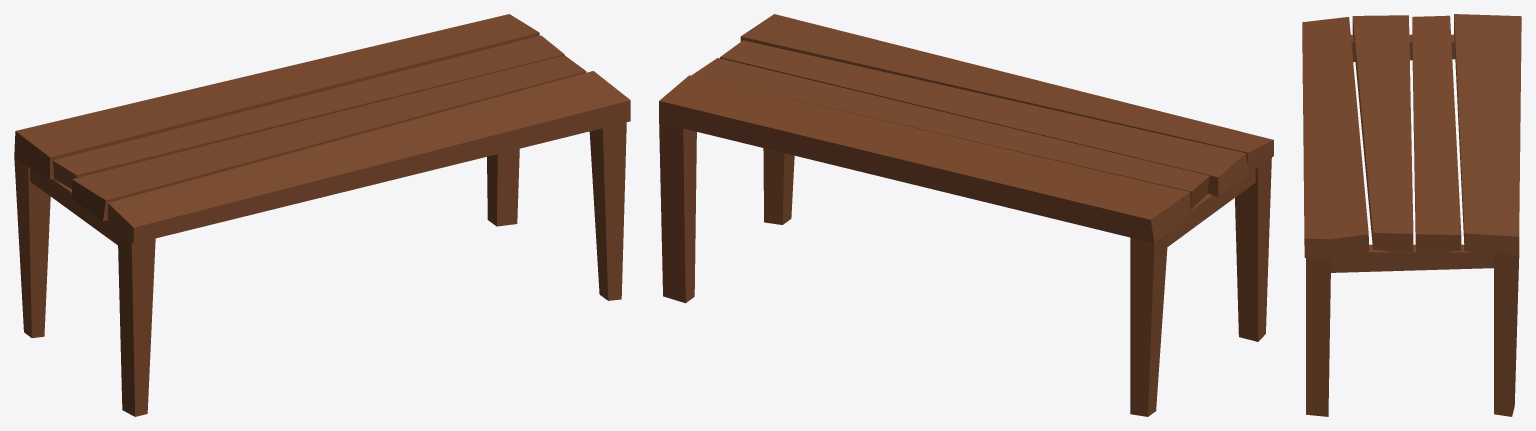
Rendered from tableplank03.obj.
3 views of the same model, side by side, from view 1: azimuth 30°, elevation 25°; view 2: azimuth 150°, elevation 25°; view 3: azimuth 270°, elevation 25° (orthographic). The views are drawn at different scales.
Parts seen in each view (by area): view 1: Cube_Cube.001; view 2: Cube_Cube.001; view 3: Cube_Cube.001.
Part boxes in pixels (left/top/right/bottom): Cube_Cube.001: left=14, top=14, right=630, bottom=416; Cube_Cube.001: left=659, top=14, right=1273, bottom=416; Cube_Cube.001: left=1302, top=14, right=1521, bottom=416.
Bounding box in the file's own units: 2.08 × 0.8 × 0.8671.
